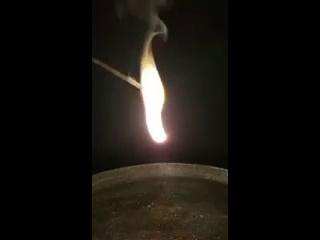Fire: (142, 42, 169, 144)
